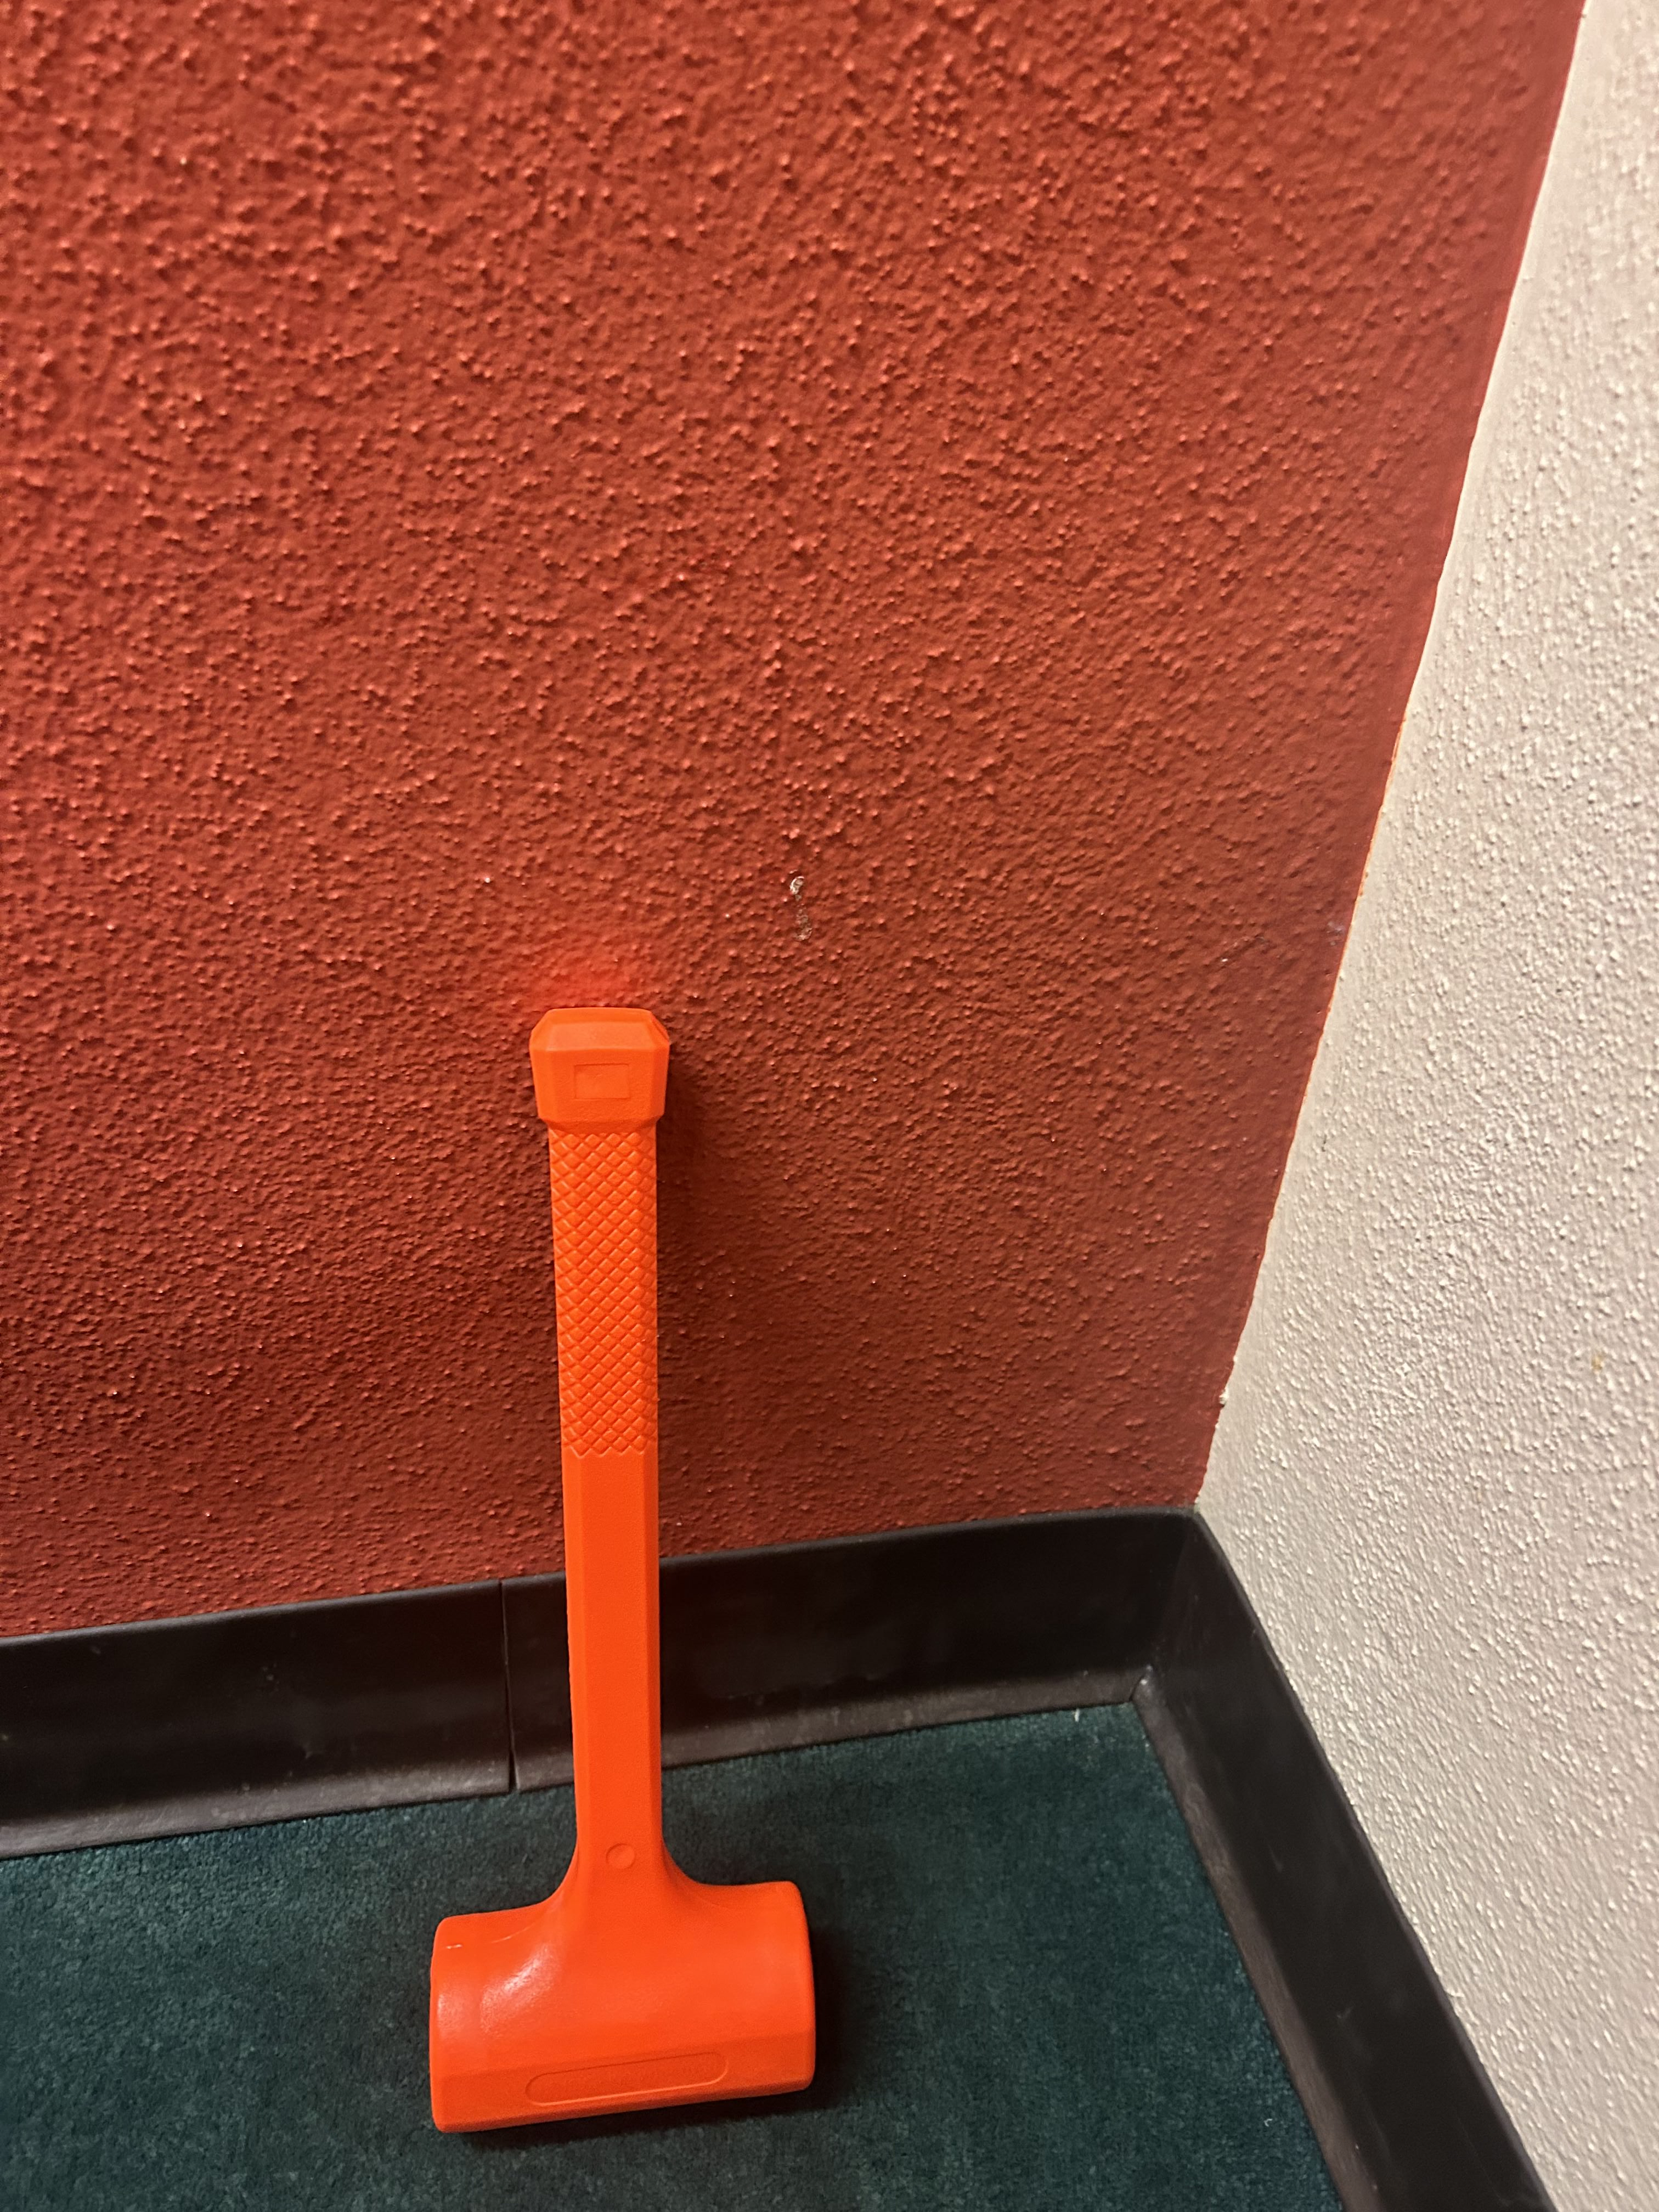Hammer: (357, 986, 873, 2144)
